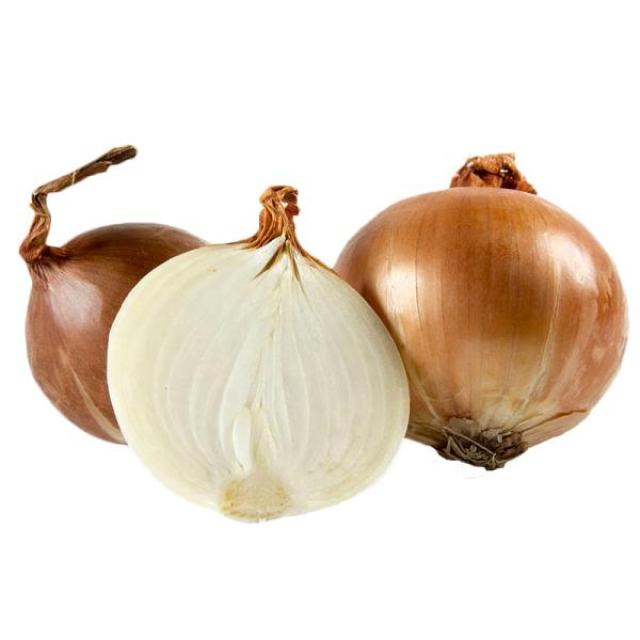Onion: (103, 186, 416, 526), (332, 186, 633, 473), (19, 147, 204, 447)
